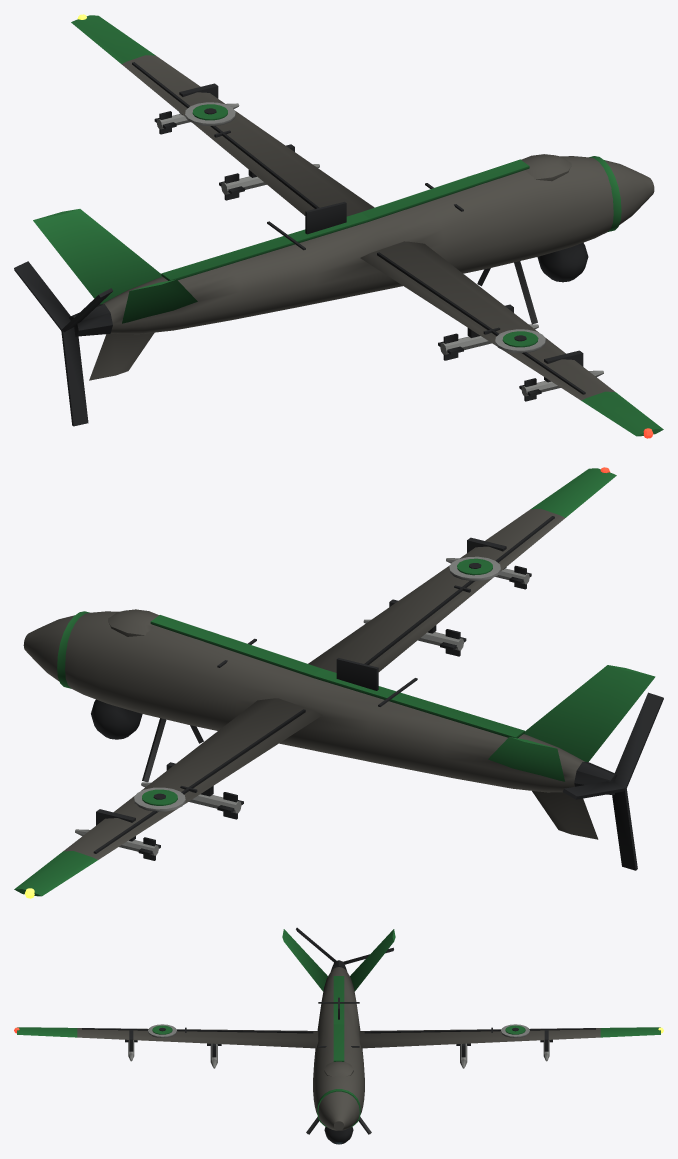
The model's file is u_drone.glb.
3 renders of one model, top to bottom at view 1: azimuth 30°, elevation 25°; view 2: azimuth 150°, elevation 25°; view 3: azimuth 270°, elevation 25°, orthographic. The views are drawn at different scales.
Parts seen in each view (by area): view 1: Drone_Walls, Drone_Details; view 2: Drone_Walls, Drone_Details; view 3: Drone_Walls, Drone_Details.
Boxes of the visible parts, bbox=[...] form: Drone_Walls: bbox=[33, 15, 663, 436]; Drone_Details: bbox=[14, 14, 653, 438]; Drone_Walls: bbox=[14, 468, 655, 896]; Drone_Details: bbox=[25, 467, 663, 898]; Drone_Walls: bbox=[17, 929, 660, 1130]; Drone_Details: bbox=[14, 927, 663, 1144].
Size of the model in its own units: 0.5358 by 0.1378 by 0.9014.
